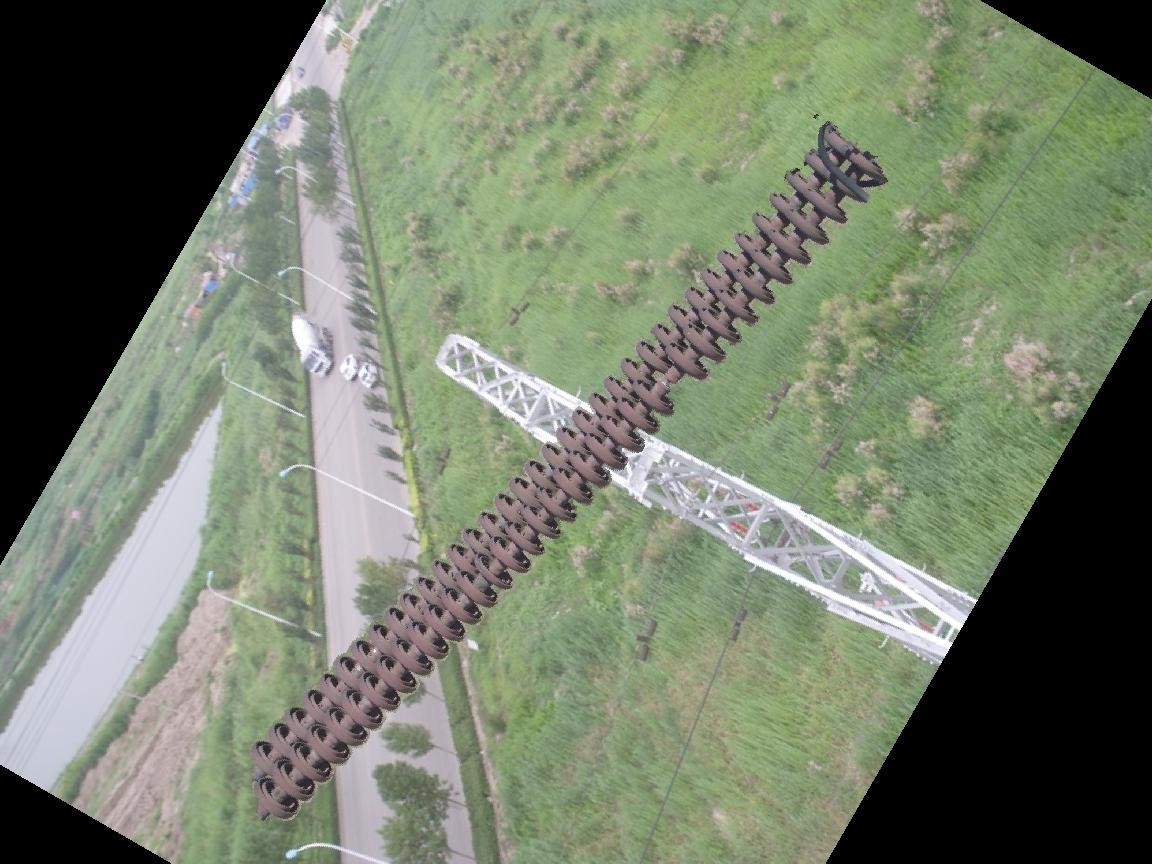insulator: (241, 127, 888, 822)
insulator_stringdrop: (630, 341, 713, 419)
